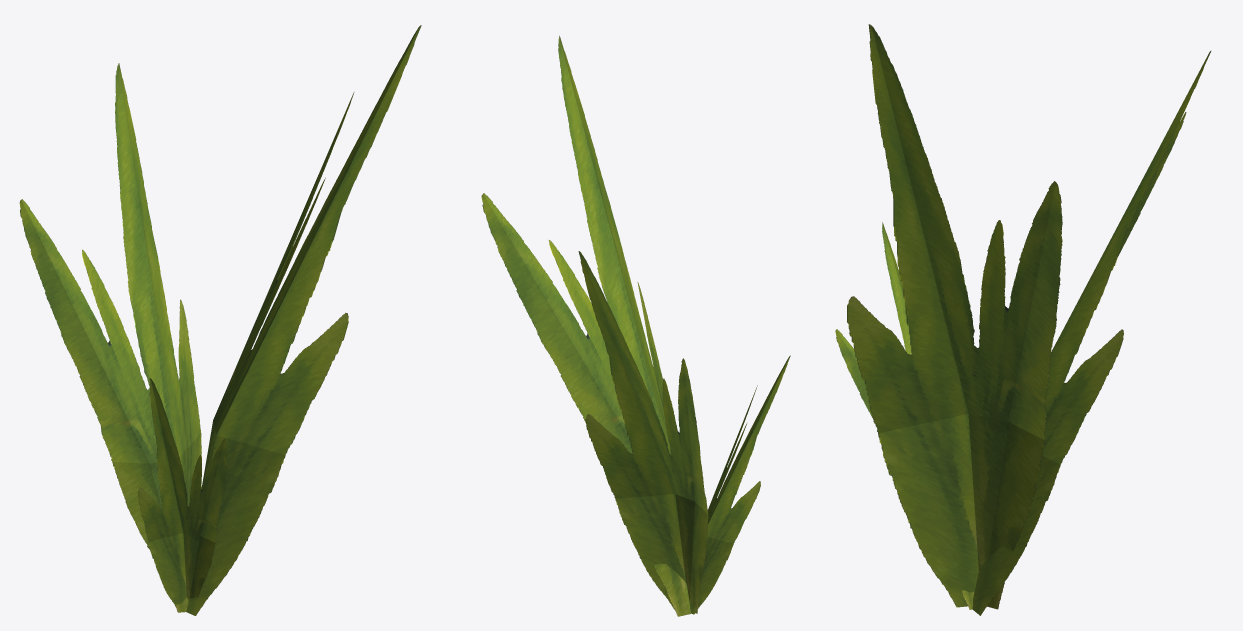
Rendered from WeedSmooth.fbx.
The picture shows the model from 3 angles, left to right: view 1: azimuth 30°, elevation 25°; view 2: azimuth 150°, elevation 25°; view 3: azimuth 270°, elevation 25°; orthographic projection. The views are drawn at different scales.
Visible parts, largest first — view 1: WeedSmooth; view 2: WeedSmooth; view 3: WeedSmooth.
Part boxes in pixels (<box>): WeedSmooth: <box>19,25,421,615</box>; WeedSmooth: <box>481,35,790,616</box>; WeedSmooth: <box>835,24,1211,615</box>.
Bounding box in the file's own units: 2.42 × 4.44 × 2.26.
